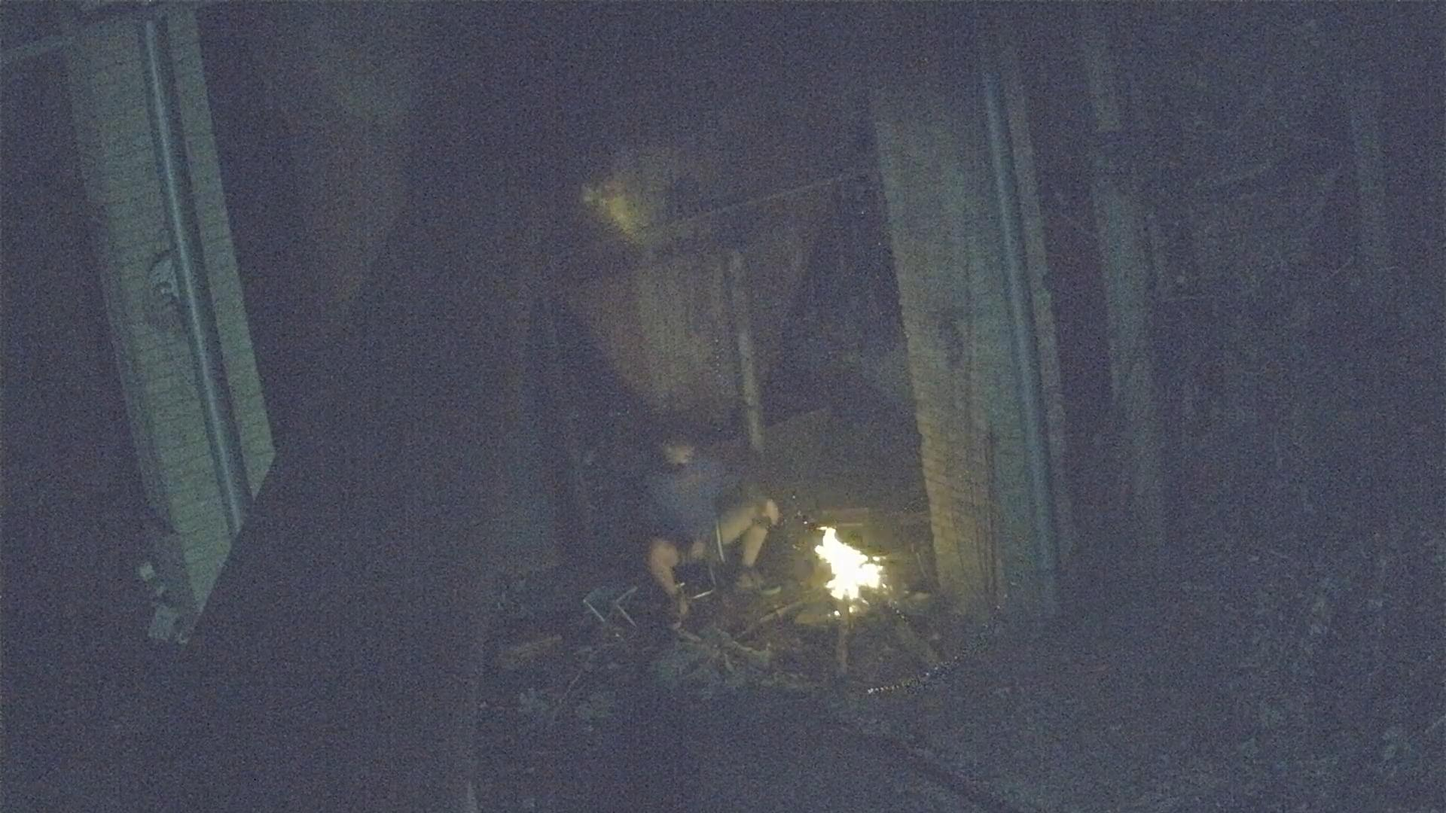fire: (814, 528, 882, 601)
